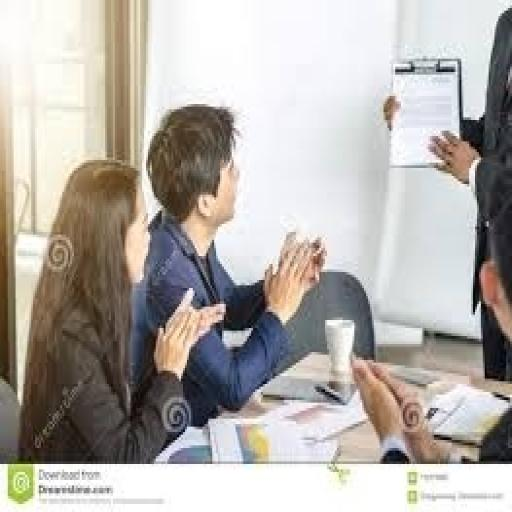clapping: (127, 98, 327, 426), (15, 155, 224, 464), (349, 147, 510, 464), (381, 0, 510, 381)
